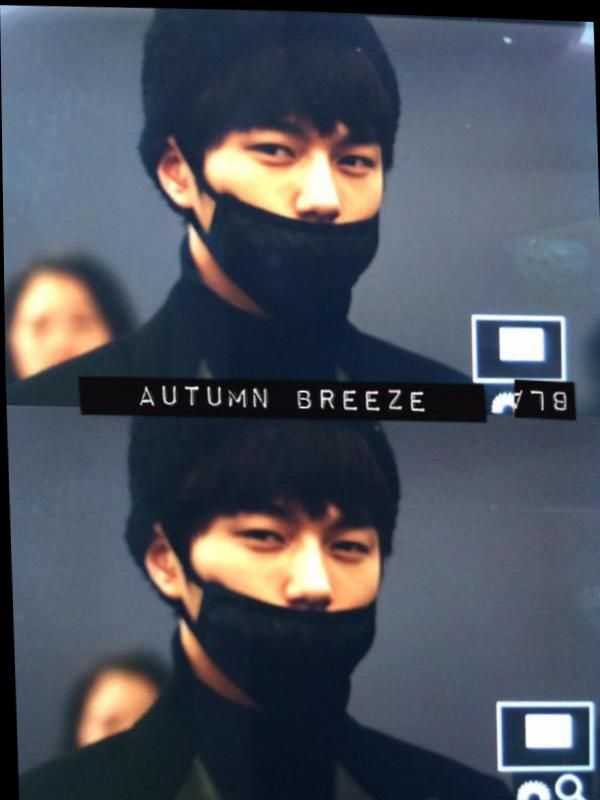WRONG: (179, 477, 382, 717), (203, 88, 386, 318)
